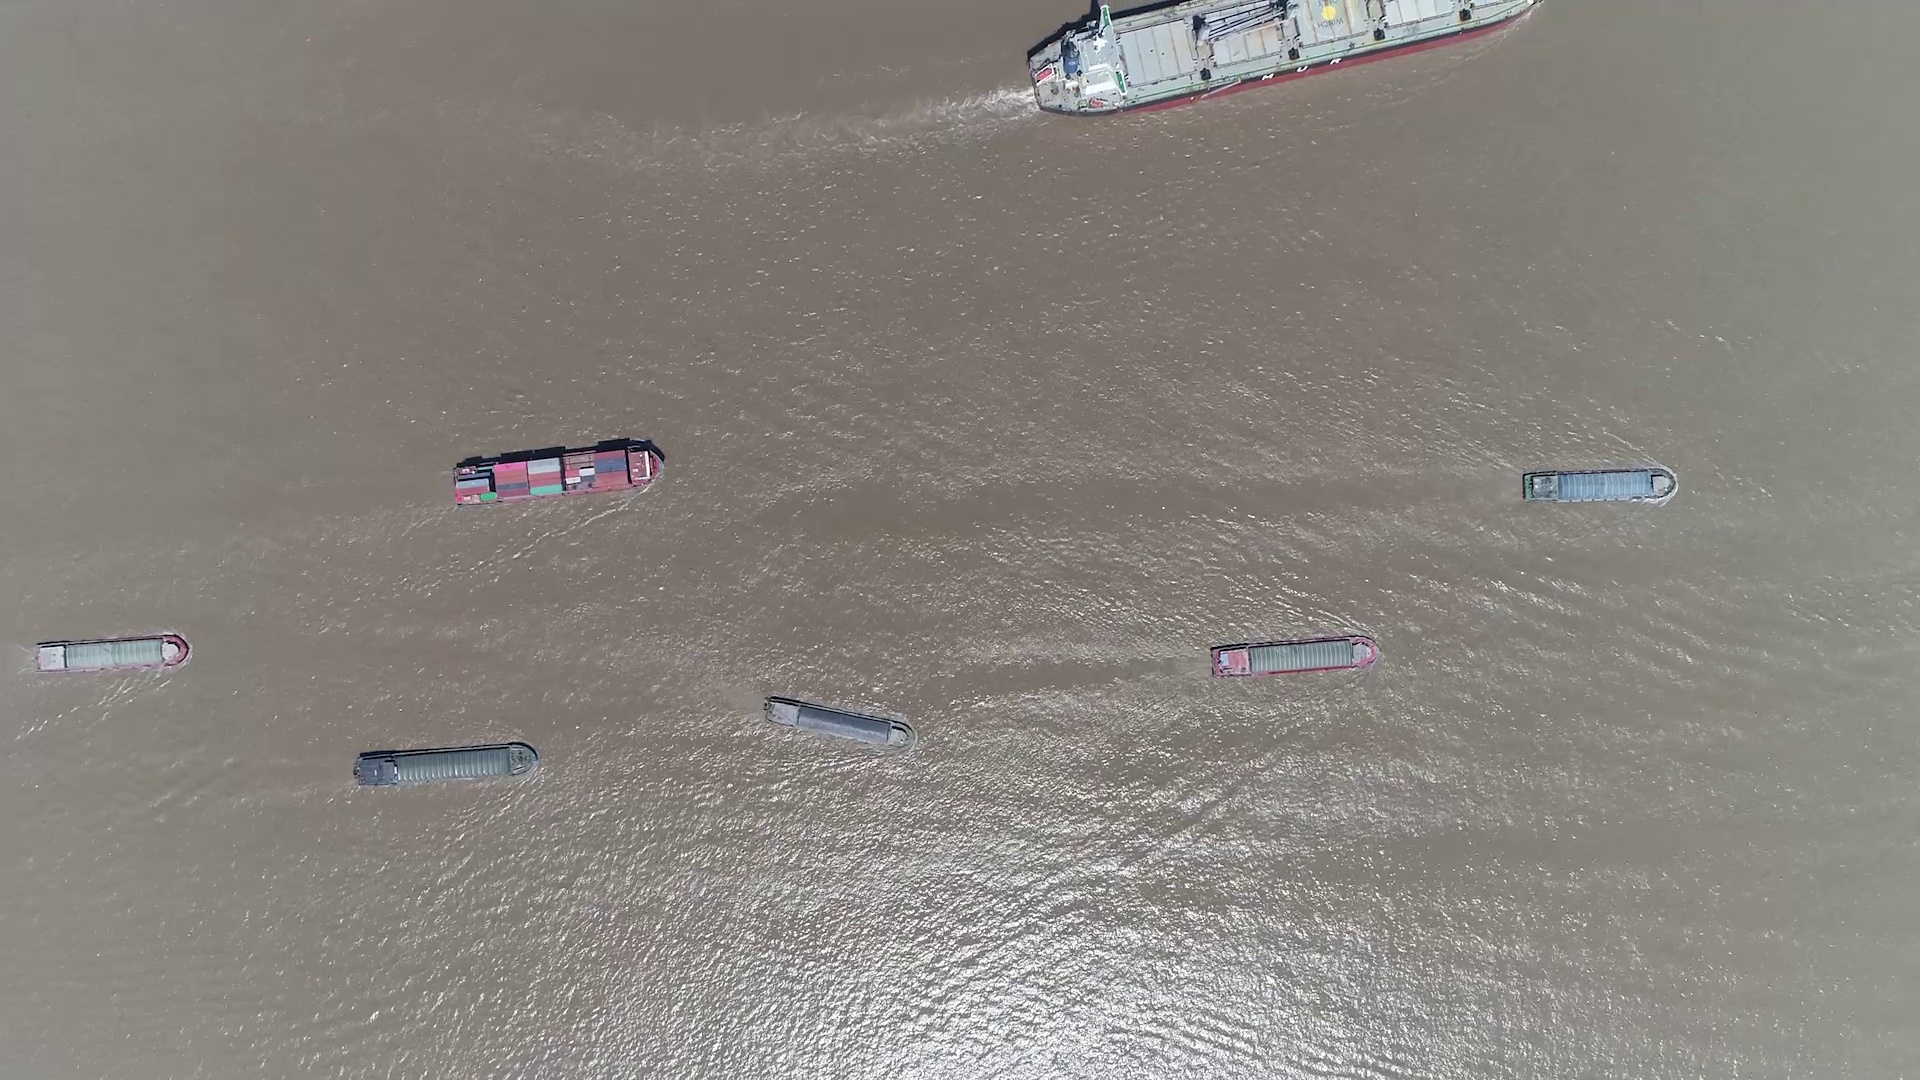ship: (1025, 1, 1534, 116), (450, 440, 662, 505), (353, 741, 538, 789), (762, 695, 913, 748), (1212, 636, 1379, 676), (32, 636, 189, 674), (1520, 469, 1675, 502)
